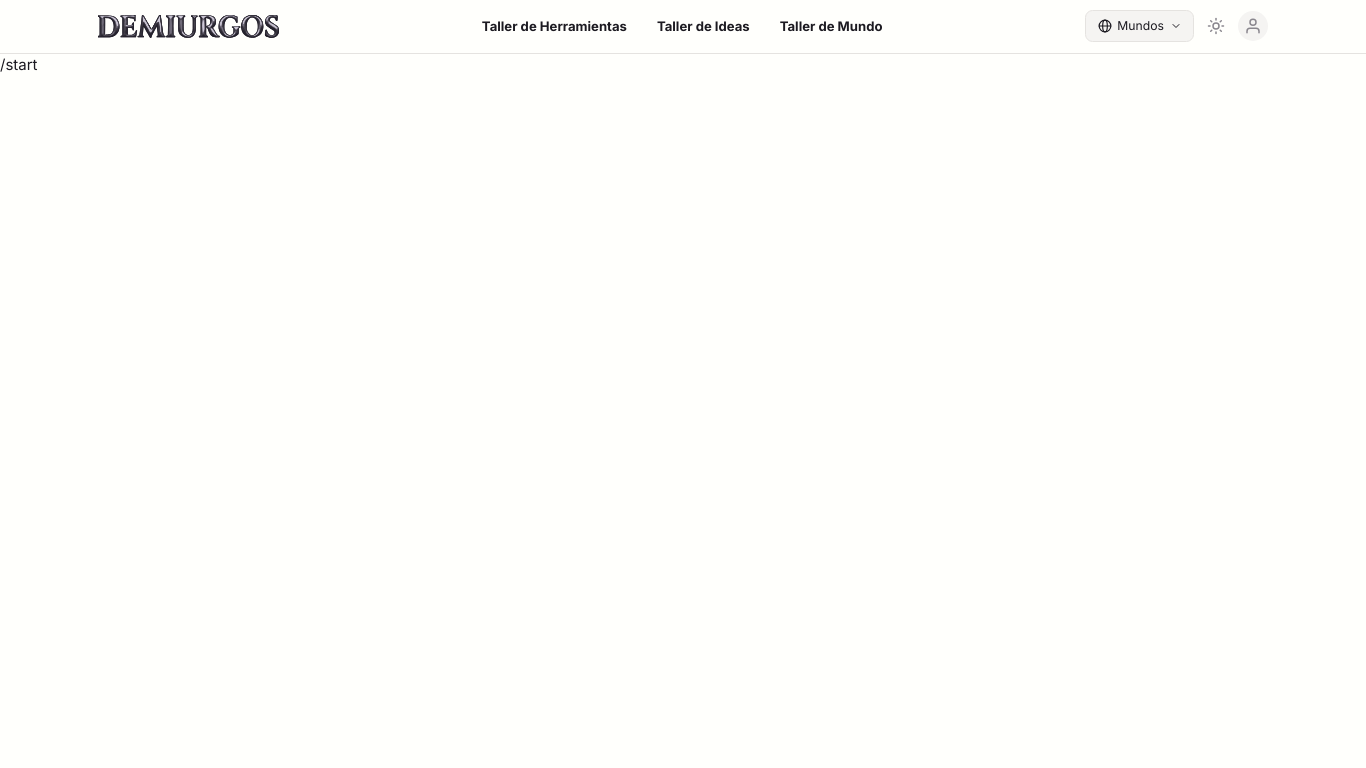
Test: Navbar › clicking the avatar opens the local session control
What coordinates should you click on to do the following:
click the button named "Perfil"
I would click on:
 (1253, 26)
Its box is [1238,11,1268,41].
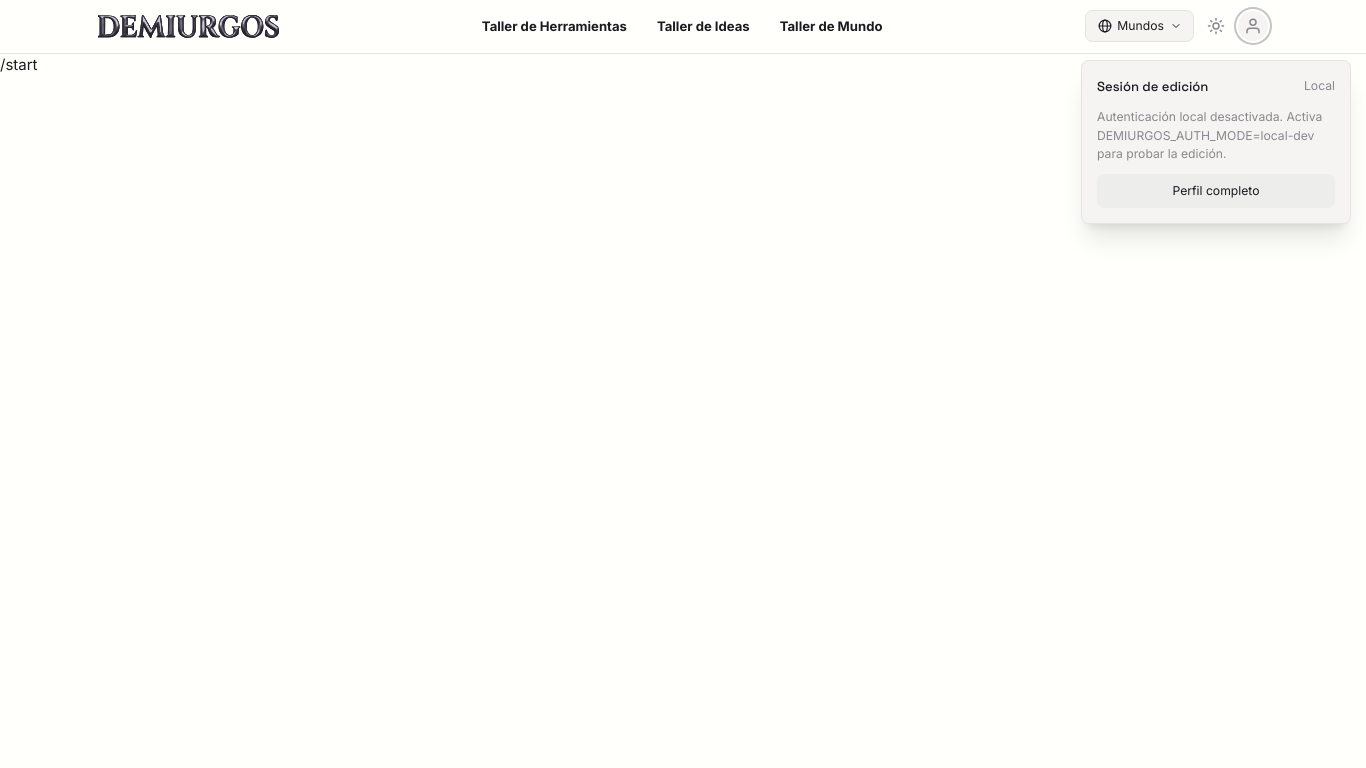
Expected: the dialog named "Perfil" is shown, [1081,60,1351,224]
Expected: the text "Autenticación local desactivada" is shown, [1097,109,1322,161]
